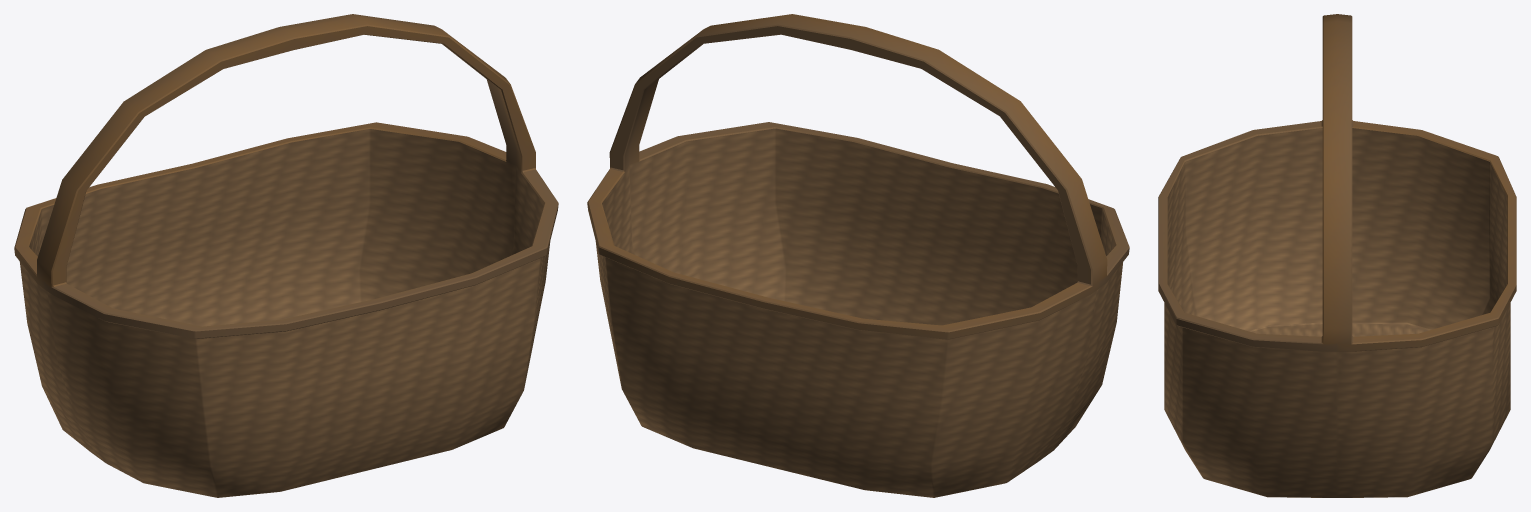
The model's file is Basket.fbx.
3 renders of one model, left to right at view 1: azimuth 30°, elevation 25°; view 2: azimuth 150°, elevation 25°; view 3: azimuth 270°, elevation 25°, orthographic. The views are drawn at different scales.
Parts seen in each view (by area): view 1: Basket; view 2: Basket; view 3: Basket.
Part boxes in pixels (x1,y1,x2,y2): Basket: [14, 14, 558, 497]; Basket: [587, 14, 1129, 497]; Basket: [1158, 14, 1516, 497].
Bounding box in the file's own units: 20.47 × 15.42 × 13.84.
1 material, 1 textured.
